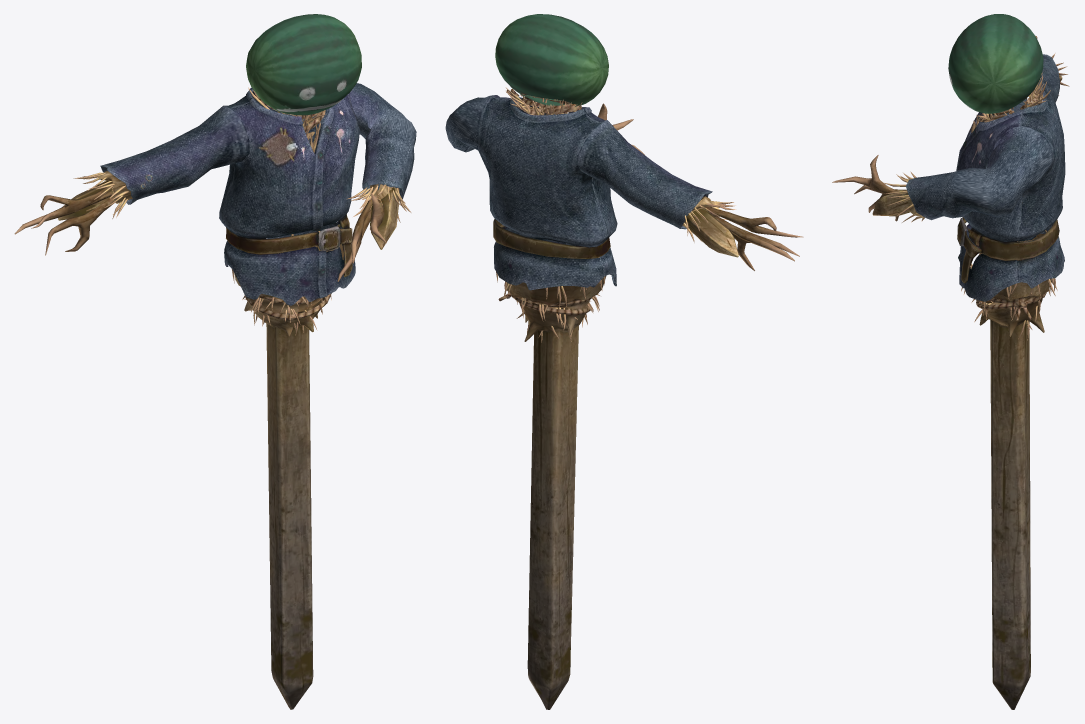
3 views of the same model, side by side, from view 1: azimuth 30°, elevation 25°; view 2: azimuth 150°, elevation 25°; view 3: azimuth 270°, elevation 25° (orthographic).
Visible parts, largest first — view 1: SM_Scarecrow_Hatless_LOD0; view 2: SM_Scarecrow_Hatless_LOD0; view 3: SM_Scarecrow_Hatless_LOD0.
Boxes of the visible parts, box(x1,y1,x2,y2) form: SM_Scarecrow_Hatless_LOD0: box(14, 14, 416, 709); SM_Scarecrow_Hatless_LOD0: box(445, 14, 803, 709); SM_Scarecrow_Hatless_LOD0: box(832, 14, 1069, 709).
Size of the model in its own units: 1.48 by 2.64 by 0.8265.
1 material, 1 textured.
